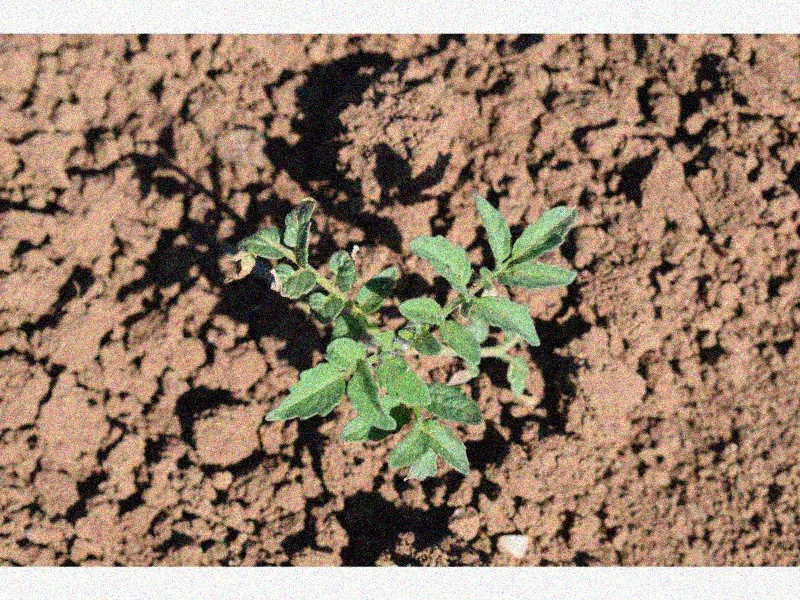tomato: (239, 192, 576, 482)
